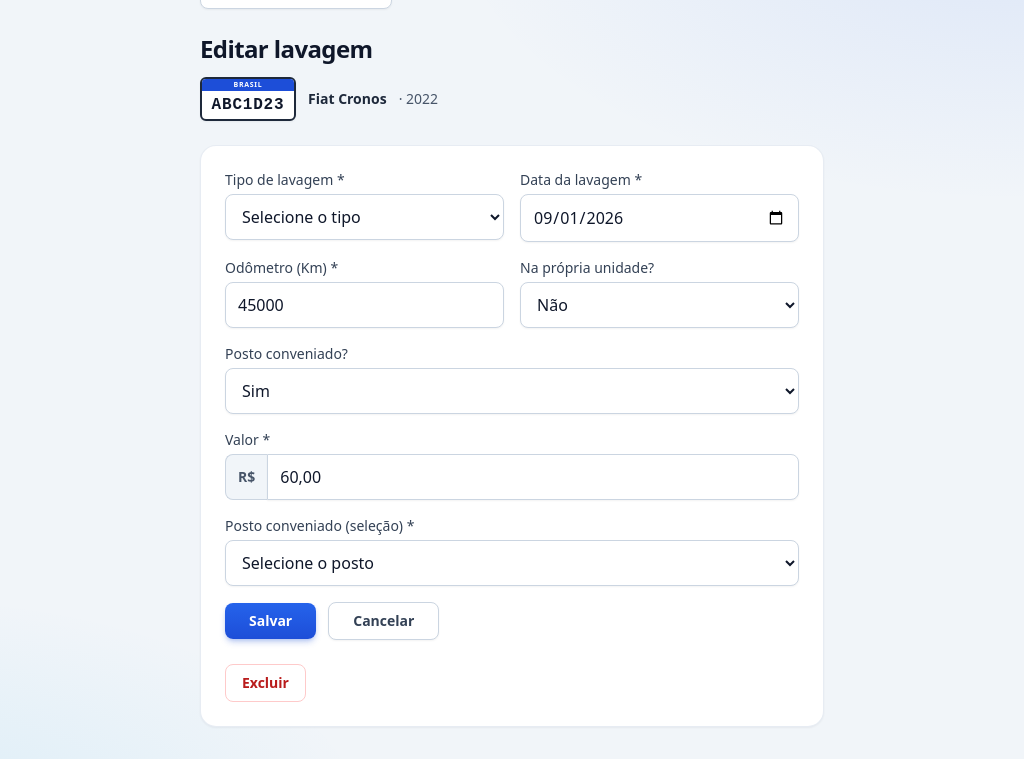
Scenario: LavagemFormPage — exclusão (Req. 9.1–9.5 / R17/R18) › Req. 9.4: cancelar fecha o diálogo e NÃO exclui
(page scrolled)
Expected: the date field labelled "Data da lavagem *" holds "2026-09-01", [520,194,799,242]
Click the button "Excluir" at {"x": 266, "y": 683}, box [225,664,306,702]
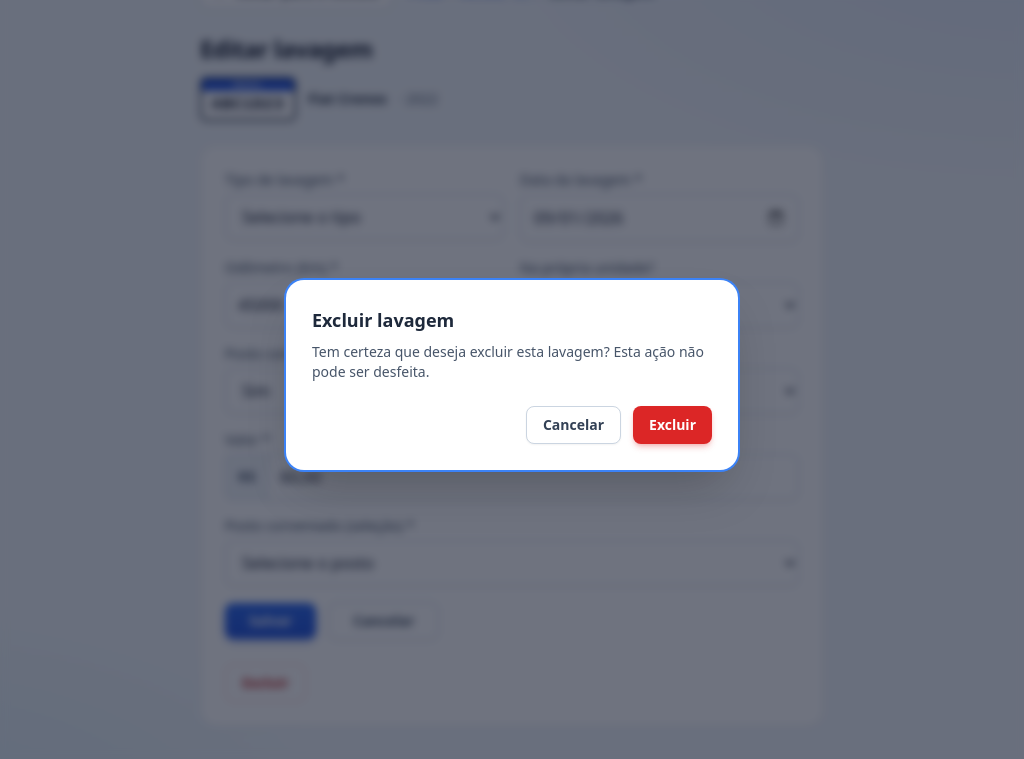
Click the button "Cancelar" at {"x": 573, "y": 425}, box [526,406,621,444]
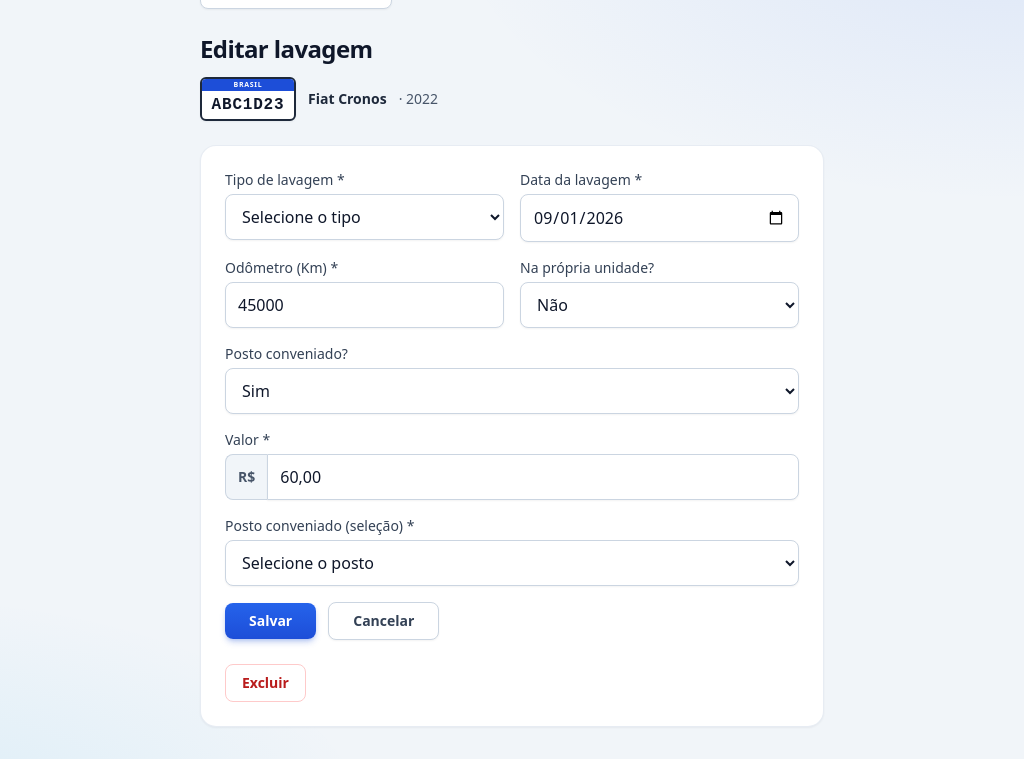
Expected: the dialog is gone
